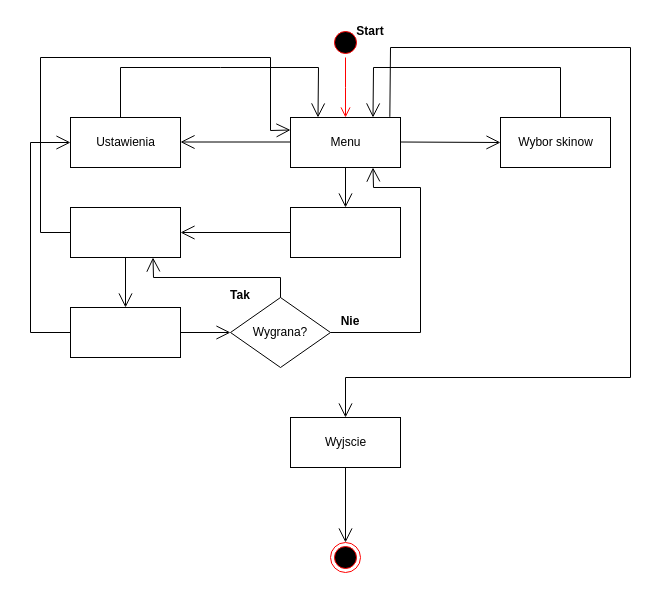
This 662x590 diagram has some shape labels left out. The shapes that lost their labels are listed below. From the top down, each one's box as (x1, y1, x2, y2) in pixels, then its label:
(70, 206, 180, 258): Wybierz level
(290, 206, 400, 258): Graj
(70, 306, 180, 358): Gra sie rozpoczela
